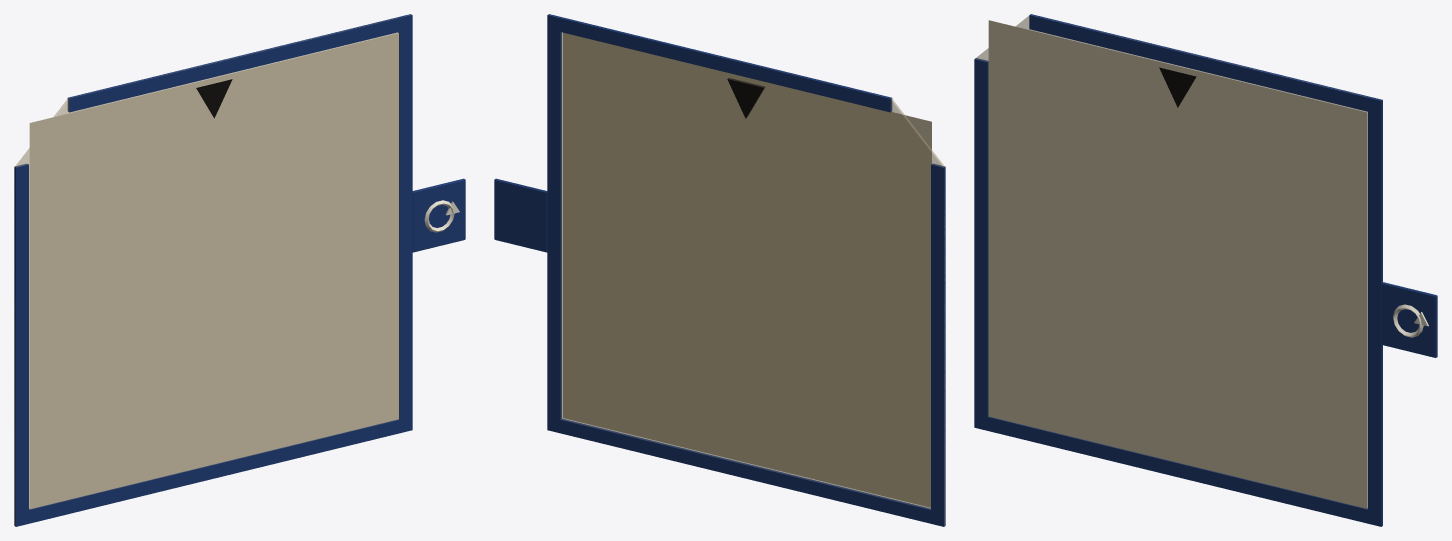
The model's file is acetate_sheet_b.glb.
3 views of the same model, side by side, from view 1: azimuth 30°, elevation 25°; view 2: azimuth 150°, elevation 25°; view 3: azimuth 330°, elevation 25° (orthographic). The views are drawn at different scales.
Parts seen in each view (by area): view 1: sheet_print, IA_sheet, IA_flip_tab; view 2: IA_sheet, sheet_print, IA_flip_tab; view 3: sheet_print, IA_sheet, IA_flip_tab.
Boxes of the visible parts, bbox=[...] form: sheet_print: bbox=[29, 33, 398, 508]; IA_sheet: bbox=[14, 14, 412, 526]; IA_flip_tab: bbox=[412, 178, 465, 252]; IA_sheet: bbox=[547, 14, 945, 526]; sheet_print: bbox=[563, 33, 931, 507]; IA_flip_tab: bbox=[494, 178, 547, 252]; sheet_print: bbox=[988, 20, 1367, 508]; IA_sheet: bbox=[974, 14, 1382, 526]; IA_flip_tab: bbox=[1381, 282, 1437, 357].
Size of the model in its own units: 0.295 by 0.26 by 0.0038.
